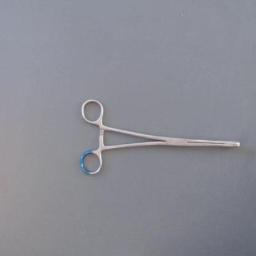Sponge Forceps: (76, 94, 244, 176)
